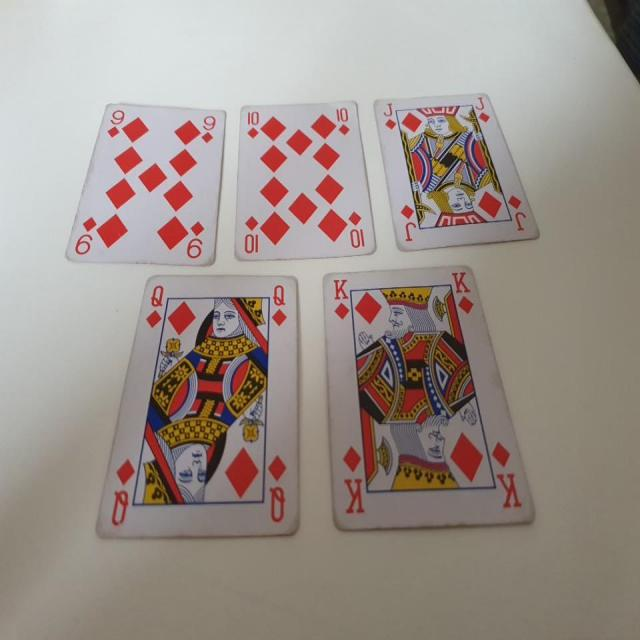10 Diamonds: (233, 97, 376, 256)
9 Diamonds: (62, 100, 227, 266)
J Diamonds: (371, 89, 542, 254)
K Diamonds: (321, 262, 539, 532)
Q Diamonds: (92, 273, 301, 539)
